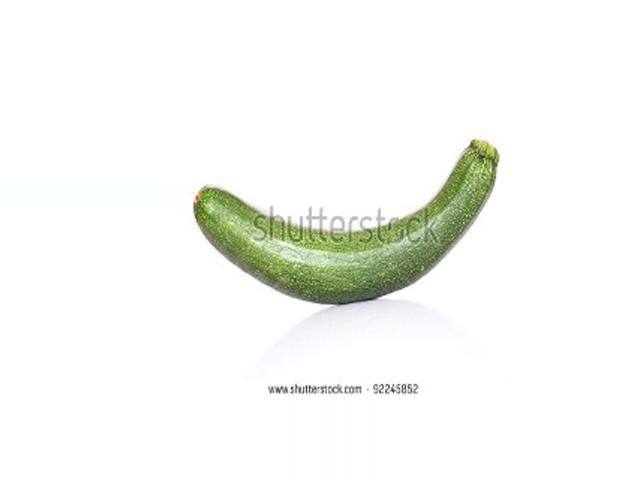cucumber: (193, 138, 498, 303)
